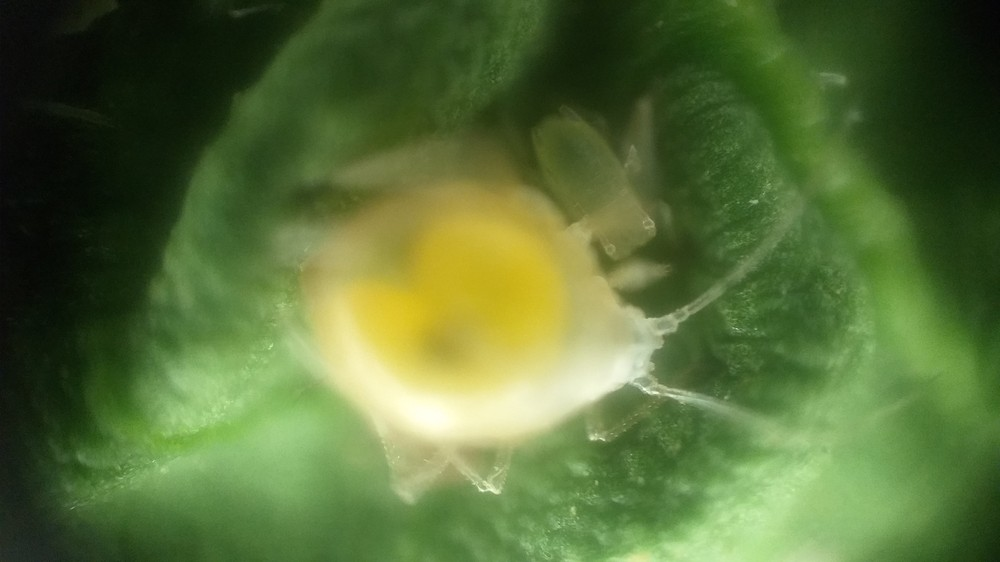Pulgon: (270, 91, 895, 507)
